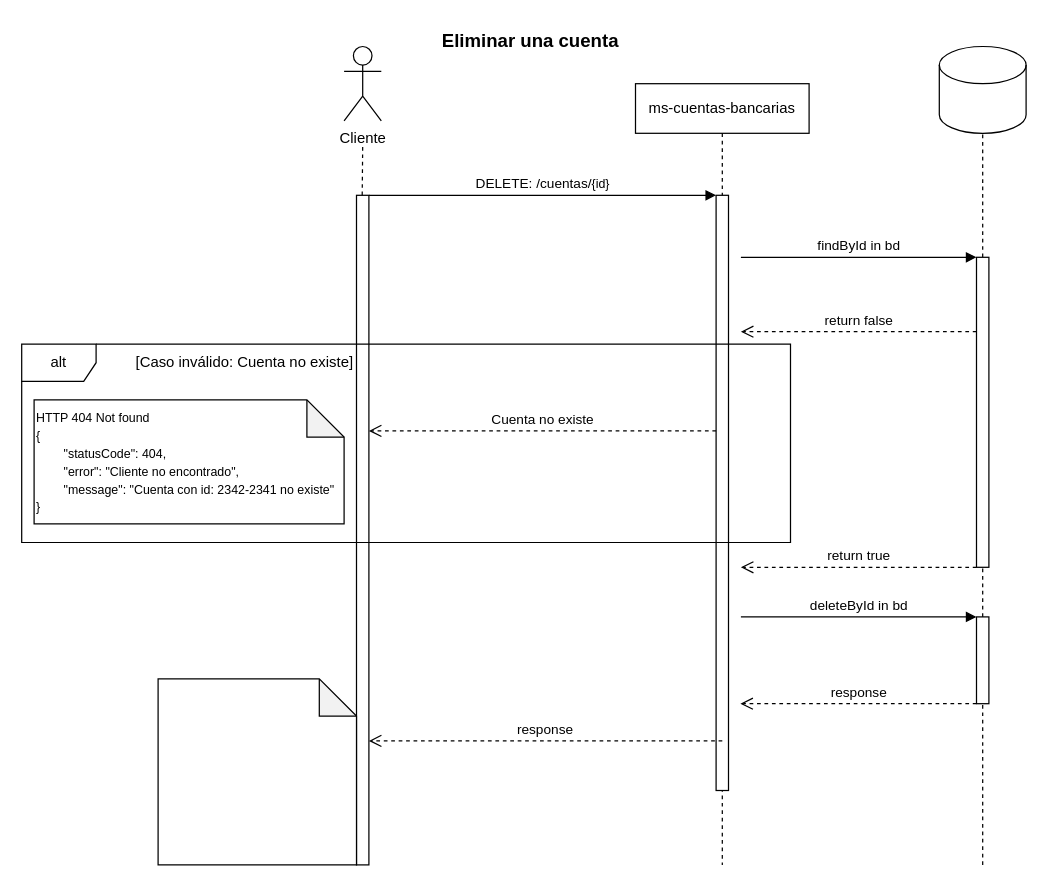
The diagram is 1048 pixels wide and 888 high, and some of its shapes have lost their labels. The centre of each missing label's shape, as x and y in pixels:
"HTTP 204 No content" goes at (256,771).
"MongoDb" goes at (982,89).
